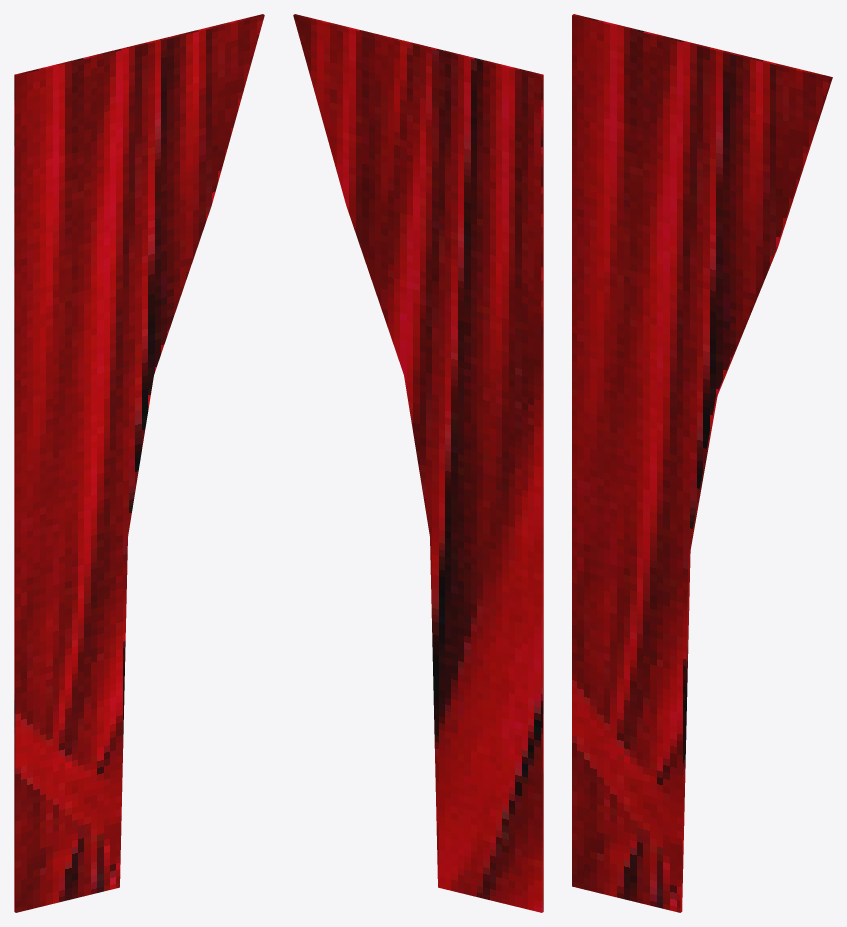
Rendered from Curtain_2.gltf.
The picture shows the model from 3 angles, left to right: view 1: azimuth 30°, elevation 25°; view 2: azimuth 150°, elevation 25°; view 3: azimuth 330°, elevation 25°; orthographic projection. The views are drawn at different scales.
Visible parts, largest first — view 1: Curtain_2; view 2: Curtain_2; view 3: Curtain_2.
Part boxes in pixels (x1,y1,x2,y2): Curtain_2: [14, 14, 264, 912]; Curtain_2: [293, 14, 543, 912]; Curtain_2: [572, 14, 832, 912].
Bounding box in the file's own units: 1.9 × 6.09 × 0.0226.
Materials: 1 (1 with a texture image).
